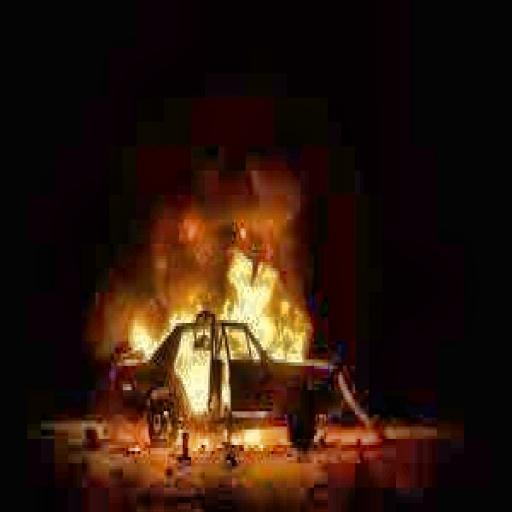fire: (126, 232, 321, 436)
